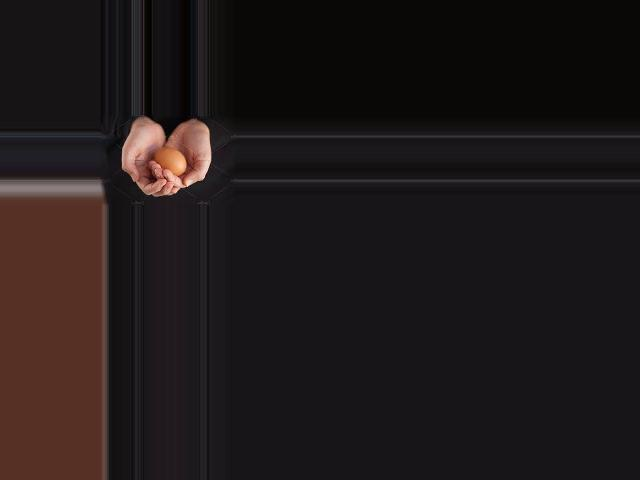egg: (152, 147, 186, 175)
